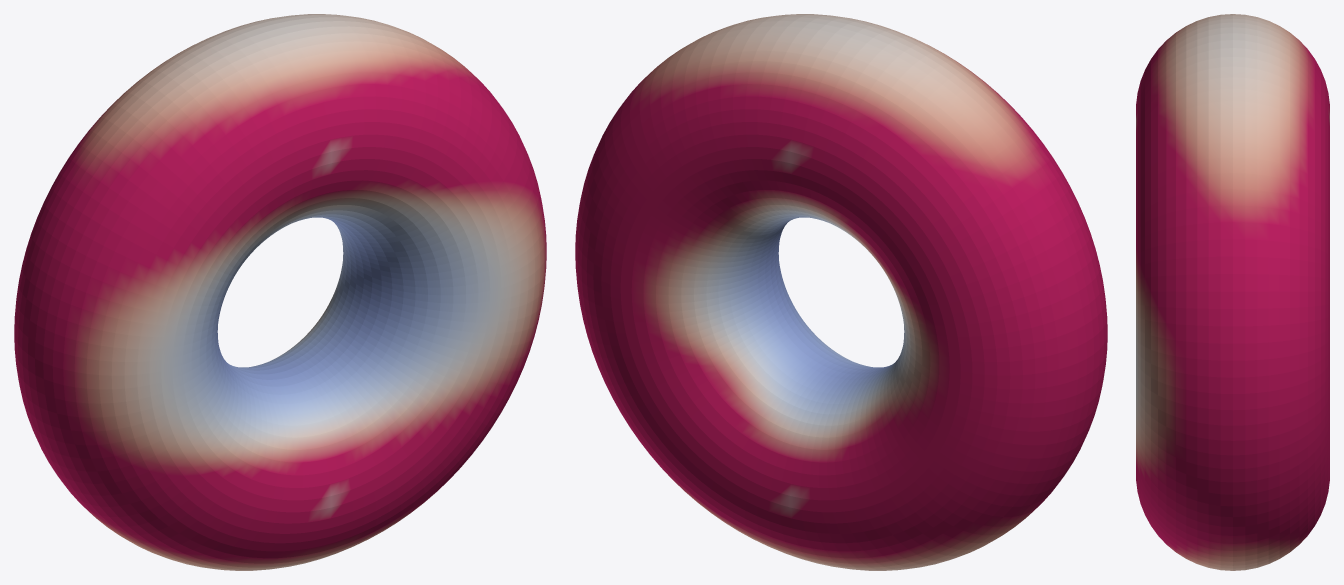
3 renders of one model, left to right at view 1: azimuth 30°, elevation 25°; view 2: azimuth 150°, elevation 25°; view 3: azimuth 270°, elevation 25°, orthographic. The views are drawn at different scales.
Parts seen in each view (by area): view 1: world; view 2: world; view 3: world.
Part boxes in pixels (bbox=[...]): world: bbox=[14, 14, 546, 570]; world: bbox=[575, 14, 1107, 570]; world: bbox=[1136, 14, 1329, 570].
Size of the model in its own units: 25.6 by 25.6 by 8.92.
